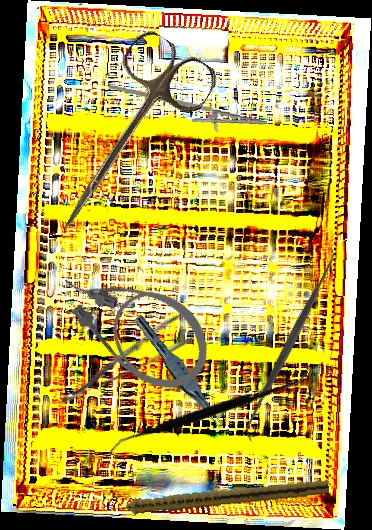Cannula: (46, 236, 227, 408)
Dressing Forceps: (49, 312, 196, 407)
Handpiece: (102, 475, 330, 518)
Iris Scissors: (29, 25, 223, 256)
Needle Holder: (105, 83, 270, 139)
Spatula Surgical: (105, 298, 313, 521), (232, 245, 348, 443)
Tissue Forceps: (127, 313, 231, 432)
